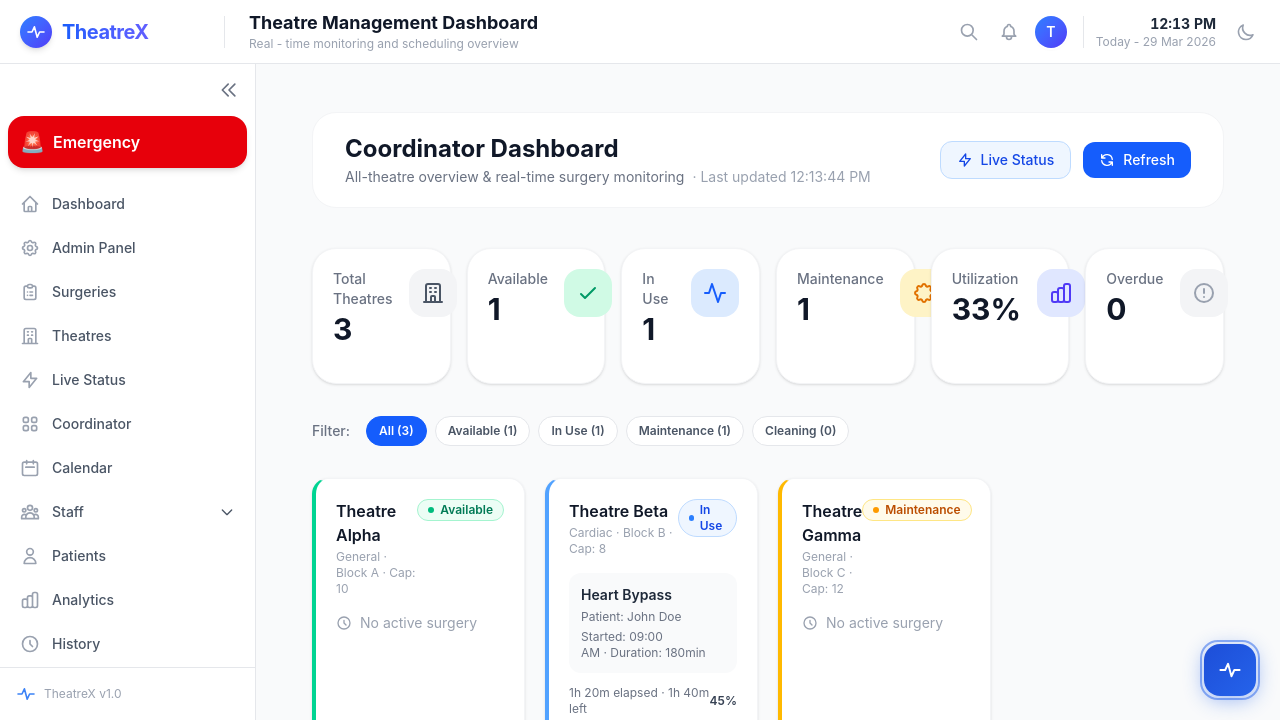
Test: CoordinatorDashboard Page Tests - M6 Day 12 › Filter Interactions › should show "No theatres match this filter" when filter has no results
Expected: the heading "Theatre Alpha" is shown, [336,501,396,545]
Click Cleaning — 0 theatres have this status (use button selector to be safe)
What coordinates should you click on to do the following:
click the button "Cleaning (0)"
I would click on:
 (801, 431)
Its box is [752,416,849,446].
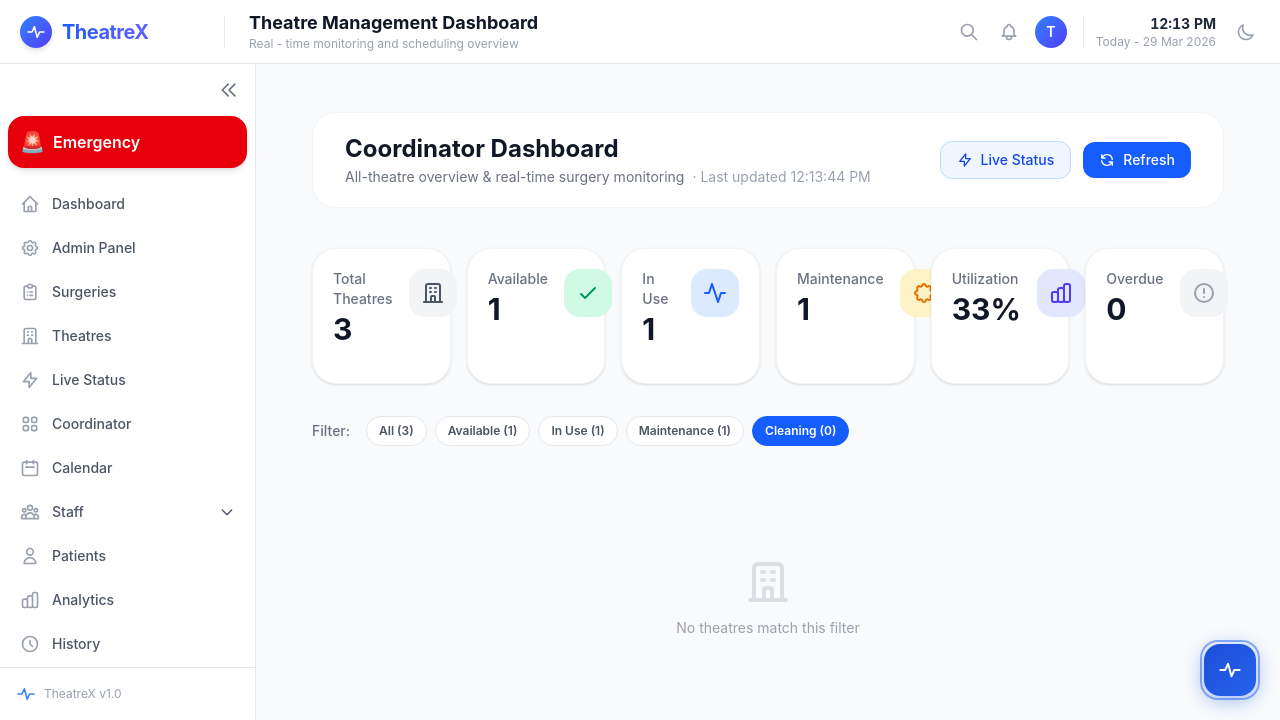
Now the text "No theatres match this filter" is shown, box [676,619,860,636]
